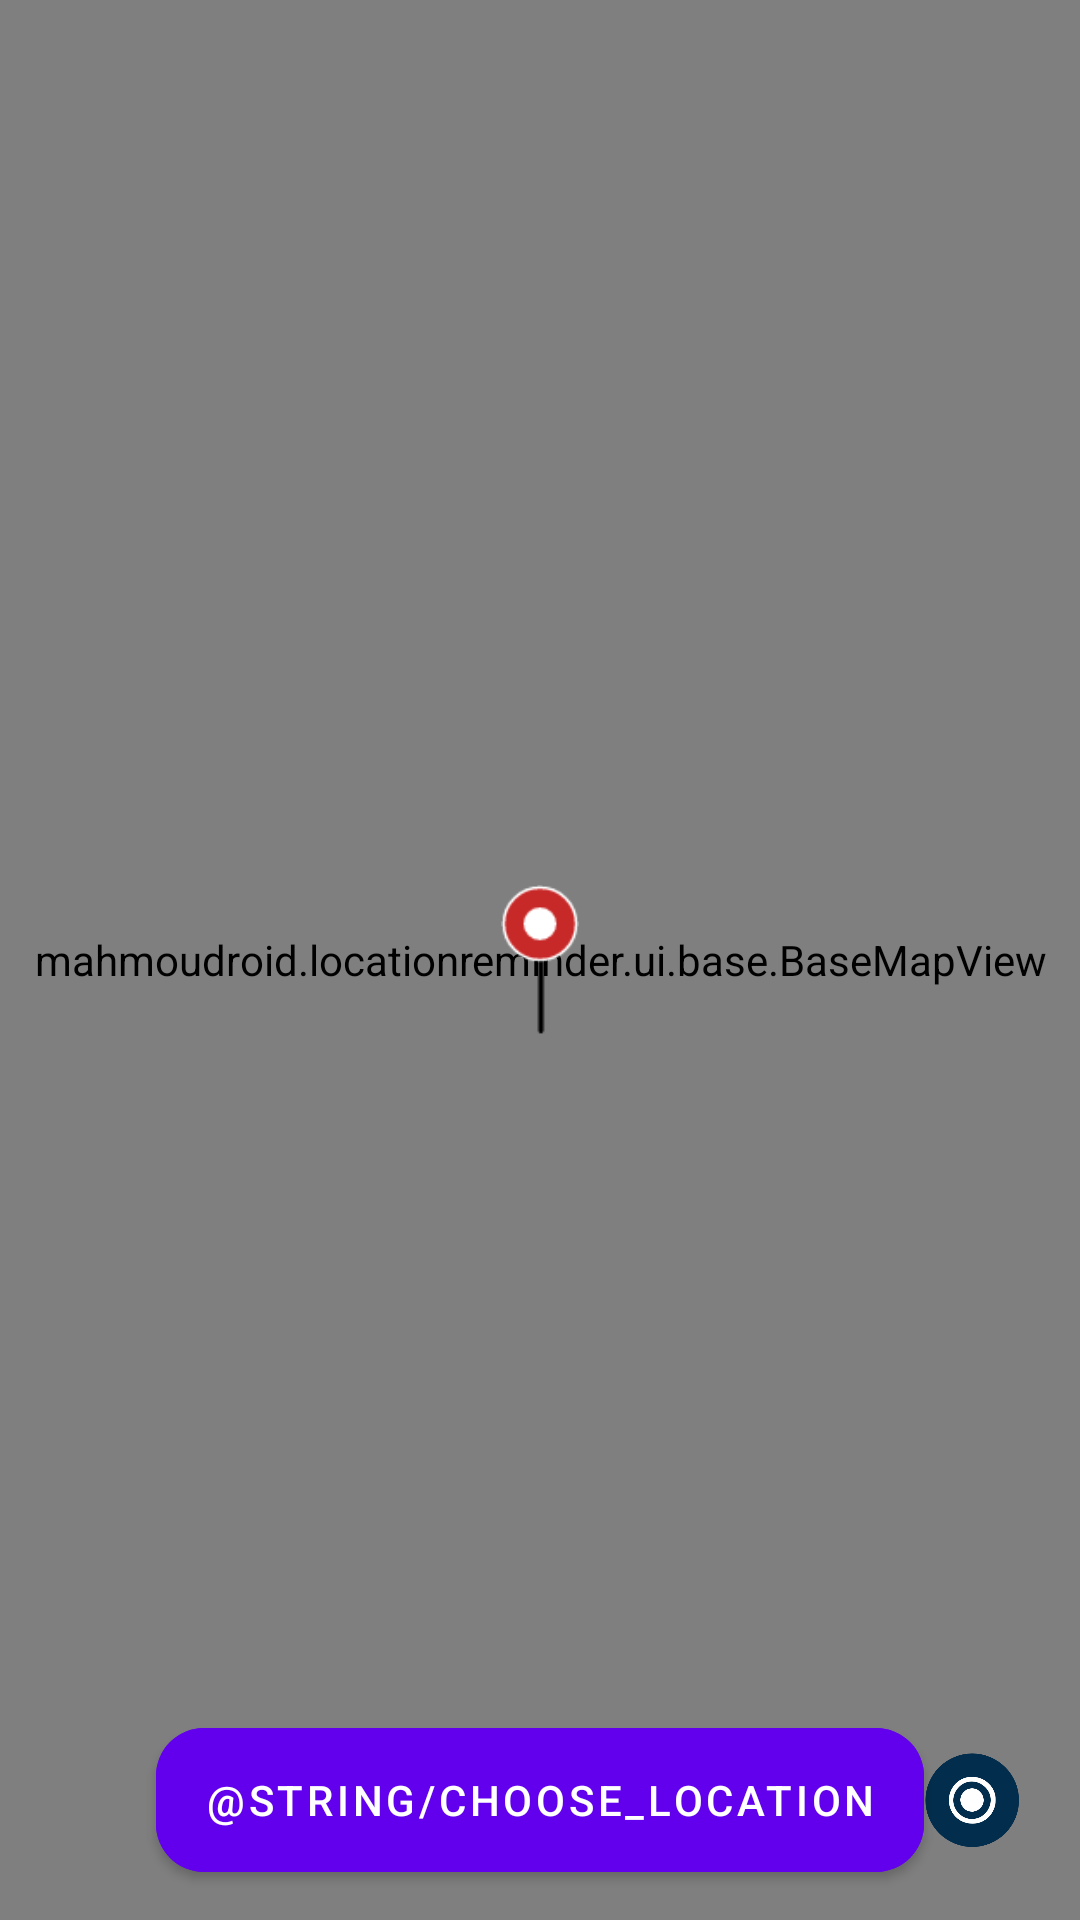

Locate icon controls on the screen. Image size 1080 × 1920, boxes as Rect(x1, y1, x2, y2).
live location: Rect(925, 1753, 1019, 1847)
